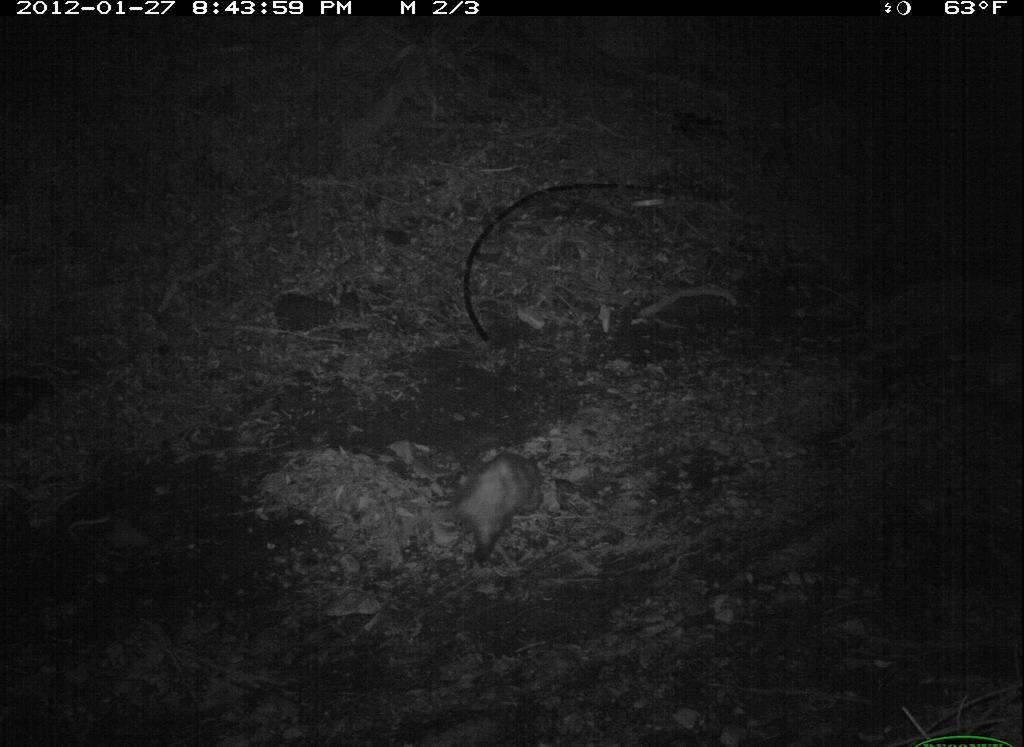opossum: (433, 428, 575, 592)
